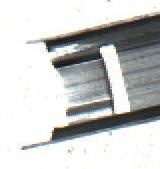press: (18, 18, 147, 153)
